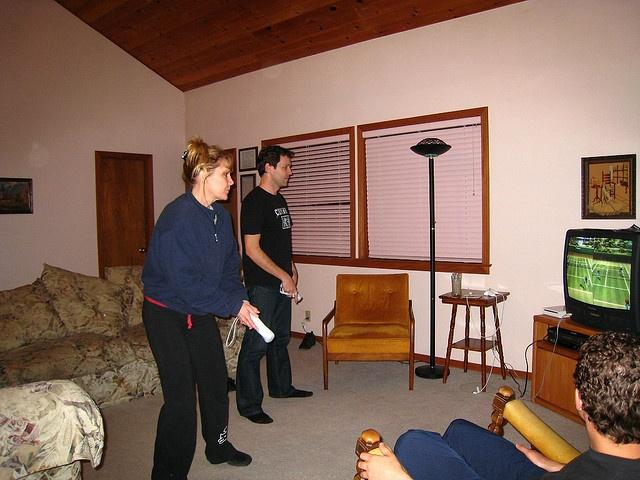AIO PC-Monitor-TV: (561, 228, 639, 330)
Kursi: (320, 272, 415, 391)
